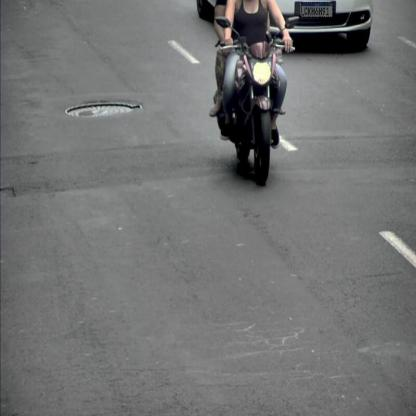PlacaM: (301, 2, 333, 17)
